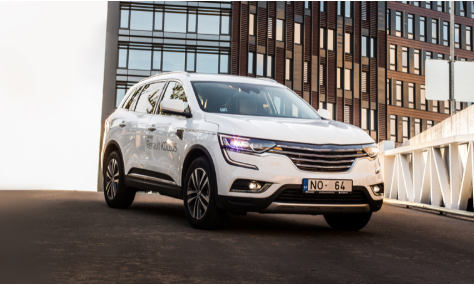SUV: (87, 65, 392, 234)
